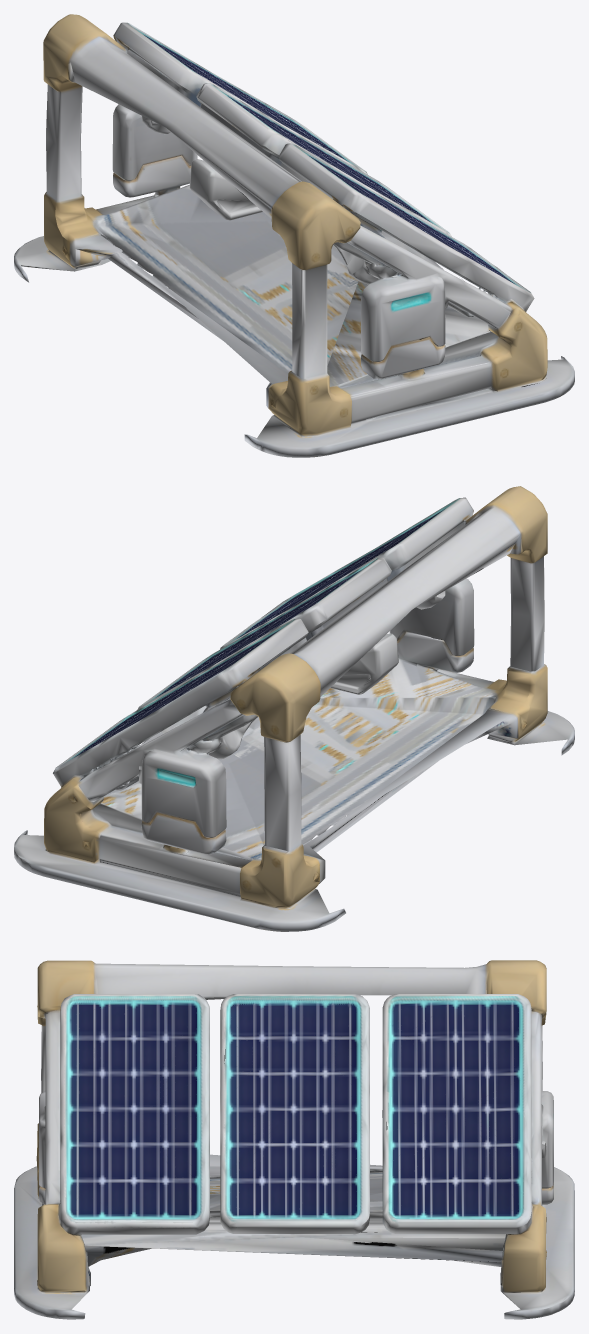
3 renders of one model, top to bottom at view 1: azimuth 30°, elevation 25°; view 2: azimuth 150°, elevation 25°; view 3: azimuth 270°, elevation 25°, orthographic. The views are drawn at different scales.
Parts seen in each view (by area): view 1: repaired; view 2: repaired; view 3: repaired.
Boxes of the visible parts, box(x1,y1,x2,y2) form: repaired: box(14, 14, 574, 457); repaired: box(14, 486, 574, 931); repaired: box(14, 960, 574, 1319).
Bounding box in the file's own units: 0.6371 × 0.4629 × 0.9995.
Materials: 1 (1 with a texture image).
